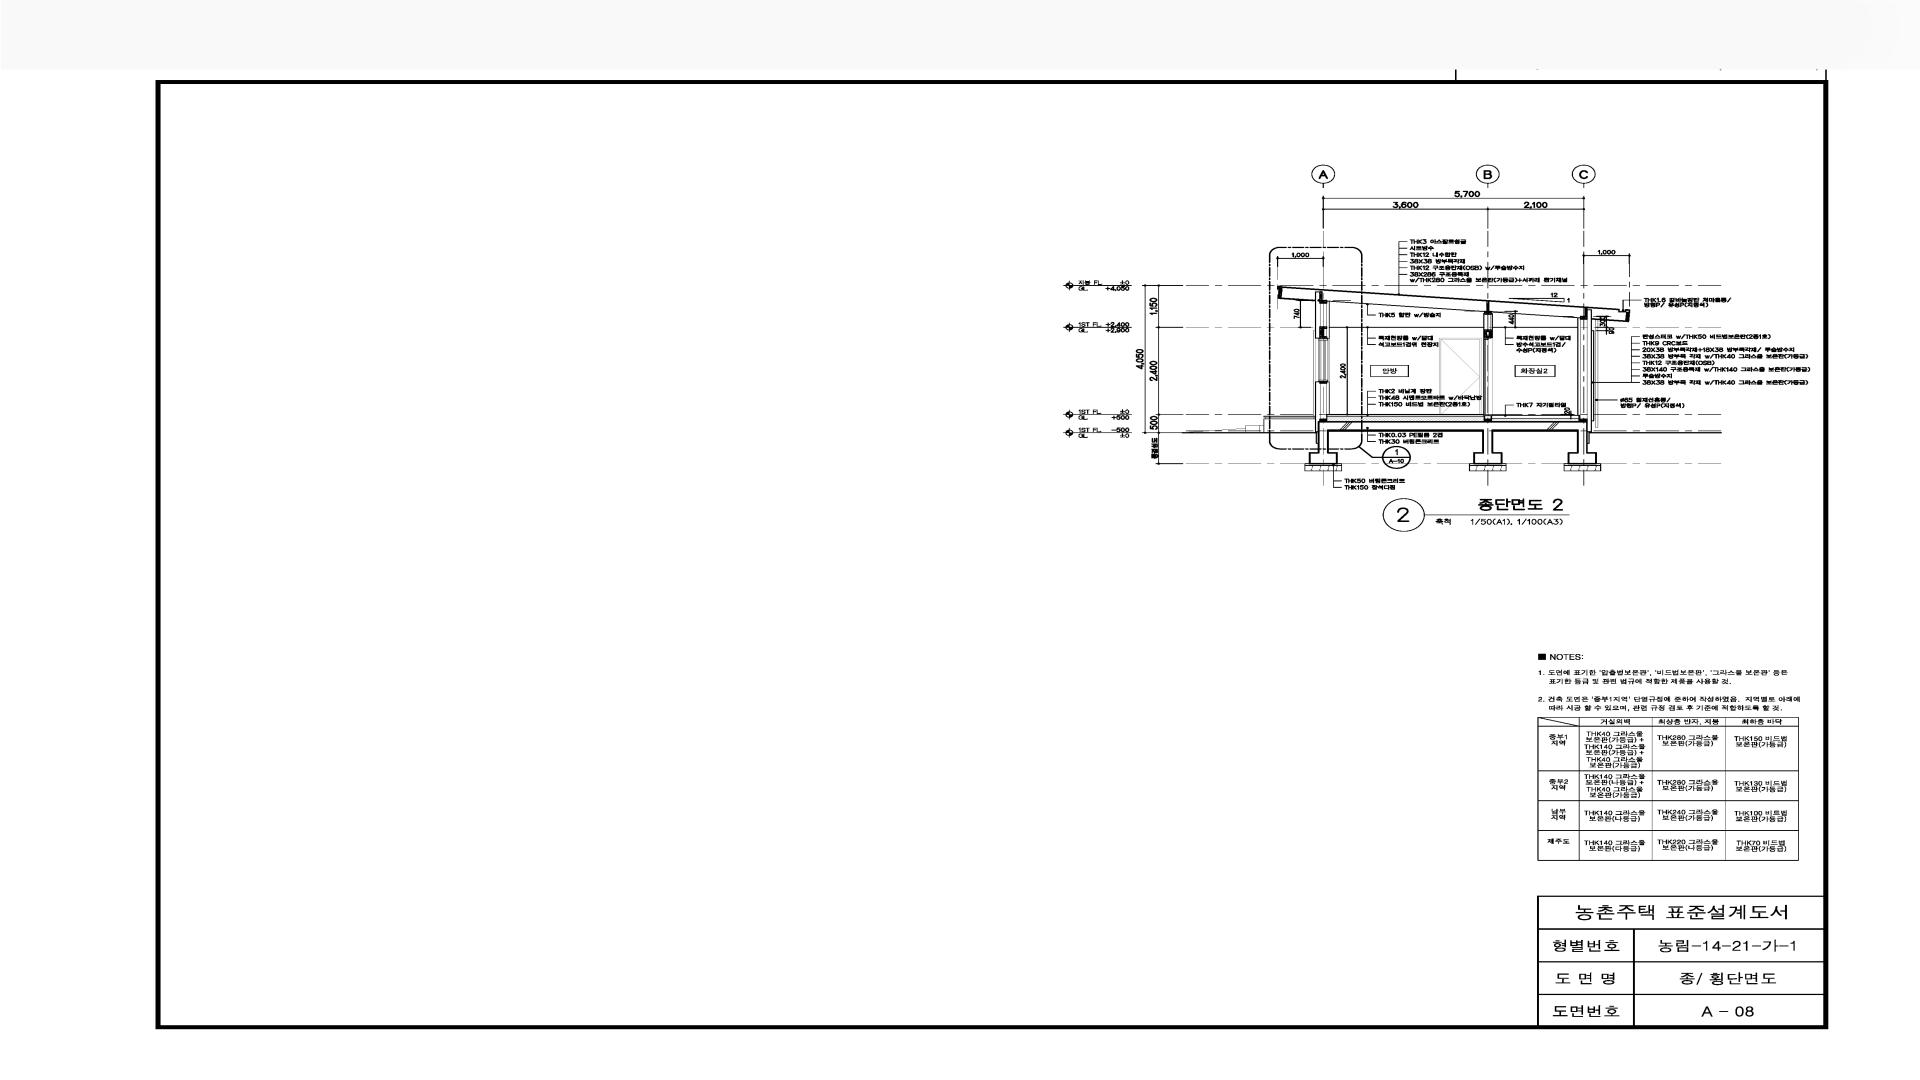door: (1439, 338, 1481, 414), (1484, 339, 1493, 415)
wall: (1309, 421, 1597, 463), (1278, 286, 1486, 311), (1489, 301, 1585, 318), (1580, 307, 1588, 421), (1588, 307, 1630, 322), (1588, 310, 1592, 433), (1319, 291, 1328, 339), (1577, 318, 1581, 421), (1319, 381, 1328, 421), (1484, 301, 1493, 339), (1315, 381, 1320, 431), (1315, 291, 1320, 339), (1327, 301, 1329, 339), (1327, 381, 1329, 414), (1484, 415, 1491, 421)
window: (1316, 339, 1329, 381)
